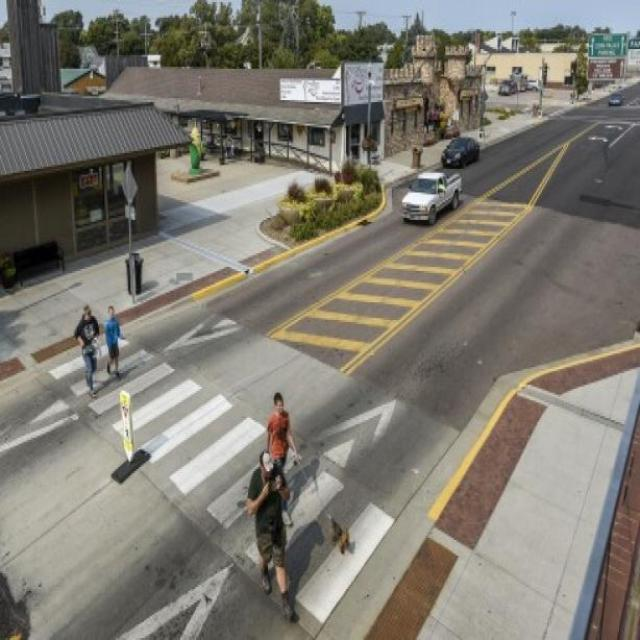pedestrian lane: (49, 336, 393, 624)
